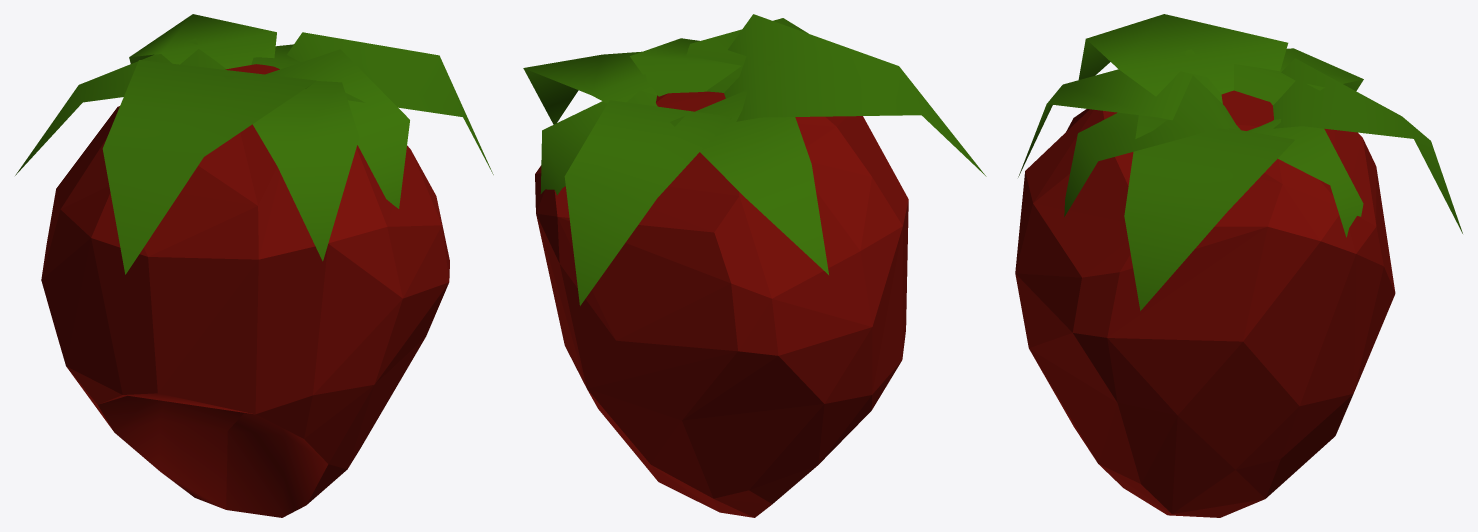
File: Strawberry_Eat1.FBX
The picture shows the model from 3 angles, left to right: view 1: azimuth 30°, elevation 25°; view 2: azimuth 150°, elevation 25°; view 3: azimuth 270°, elevation 25°; orthographic projection.
Visible parts, largest first — view 1: Box029, Plane008, Plane013, Plane010, Plane009, Plane007, Plane012, Plane011; view 2: Box029, Plane007, Plane008, Plane012, Plane010, Plane009, Plane011, Plane013; view 3: Box029, Plane010, Plane008, Plane007, Plane009, Plane013, Plane011, Plane012.
Boxes of the visible parts, left/top/right/bottom form: Box029: left=41, top=64, right=449, bottom=517; Plane008: left=102, top=60, right=316, bottom=274; Plane013: left=223, top=75, right=359, bottom=261; Plane010: left=287, top=32, right=493, bottom=174; Plane009: left=265, top=49, right=409, bottom=208; Plane007: left=129, top=14, right=276, bottom=69; Plane012: left=15, top=38, right=225, bottom=175; Plane011: left=251, top=44, right=300, bottom=69; Box029: left=535, top=91, right=908, bottom=517; Plane007: left=564, top=100, right=731, bottom=305; Plane008: left=724, top=14, right=986, bottom=176; Plane012: left=670, top=89, right=828, bottom=274; Plane010: left=523, top=48, right=688, bottom=124; Plane009: left=630, top=38, right=741, bottom=96; Plane011: left=540, top=90, right=657, bottom=195; Plane013: left=686, top=18, right=808, bottom=92; Box029: left=1015, top=90, right=1395, bottom=517; Plane010: left=1124, top=115, right=1294, bottom=310; Plane008: left=1078, top=14, right=1288, bottom=96; Plane007: left=1273, top=58, right=1462, bottom=233; Plane009: left=1064, top=75, right=1240, bottom=216; Plane013: left=1018, top=49, right=1222, bottom=177; Plane011: left=1247, top=119, right=1363, bottom=237; Plane012: left=1234, top=48, right=1363, bottom=105.
Size of the model in its own units: 96.63 by 105 by 93.81.
